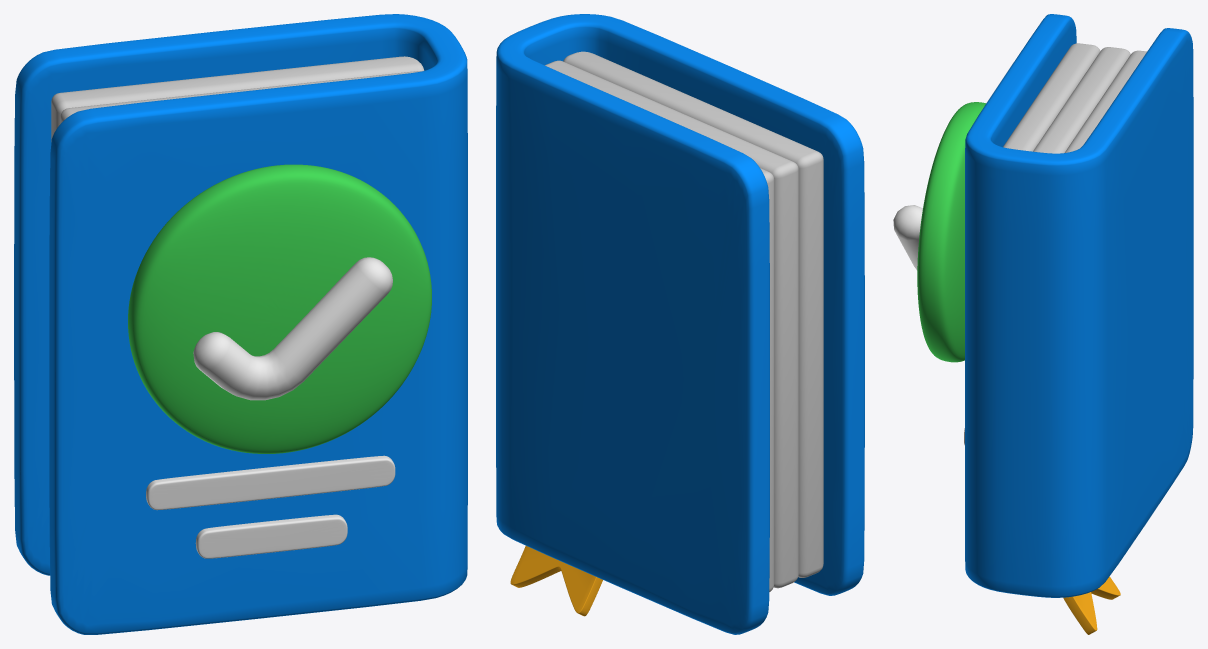
File: lesson-completed-animated-3d-icon-75432287071.glb
The picture shows the model from 3 angles, left to right: view 1: azimuth 30°, elevation 25°; view 2: azimuth 150°, elevation 25°; view 3: azimuth 270°, elevation 25°; orthographic projection. The views are drawn at different scales.
Parts seen in each view (by area): view 1: Cover, Circle Base, Text, Checkmark, Papers; view 2: Cover, Papers, Sign; view 3: Cover, Circle Base, Papers, Sign, Checkmark.
Boxes of the visible parts, x1,y1,x2,y2 form: Cover: (14,14,467,634); Circle Base: (128,164,431,453); Text: (146,455,395,558); Checkmark: (193,257,392,400); Papers: (51,56,424,141); Cover: (496,14,864,634); Papers: (545,51,823,591); Sign: (510,546,602,616); Cover: (965,14,1193,597); Circle Base: (917,102,985,362); Papers: (1003,43,1146,153); Sign: (1063,576,1120,634); Checkmark: (893,205,922,270).
Size of the model in its own units: 1.9 by 2.67 by 1.5.
